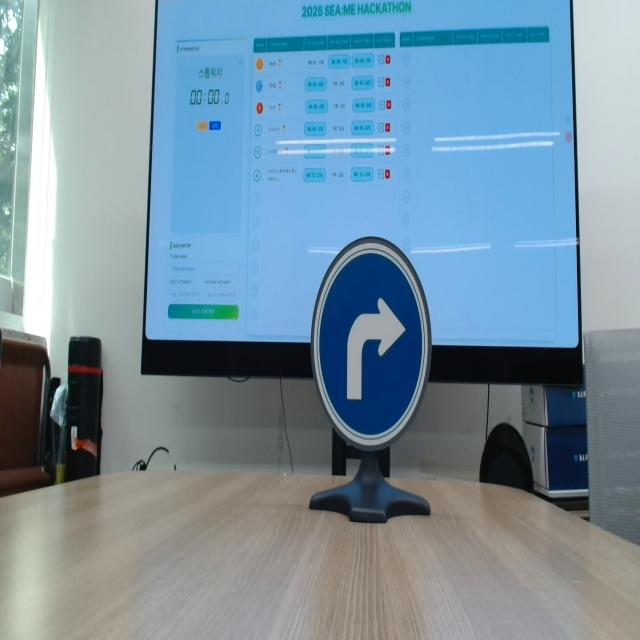right_dierection: (308, 232, 436, 456)
